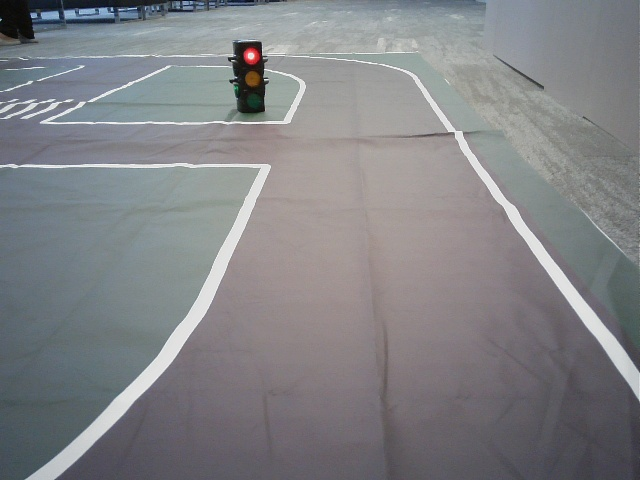red: (238, 45, 265, 108)
